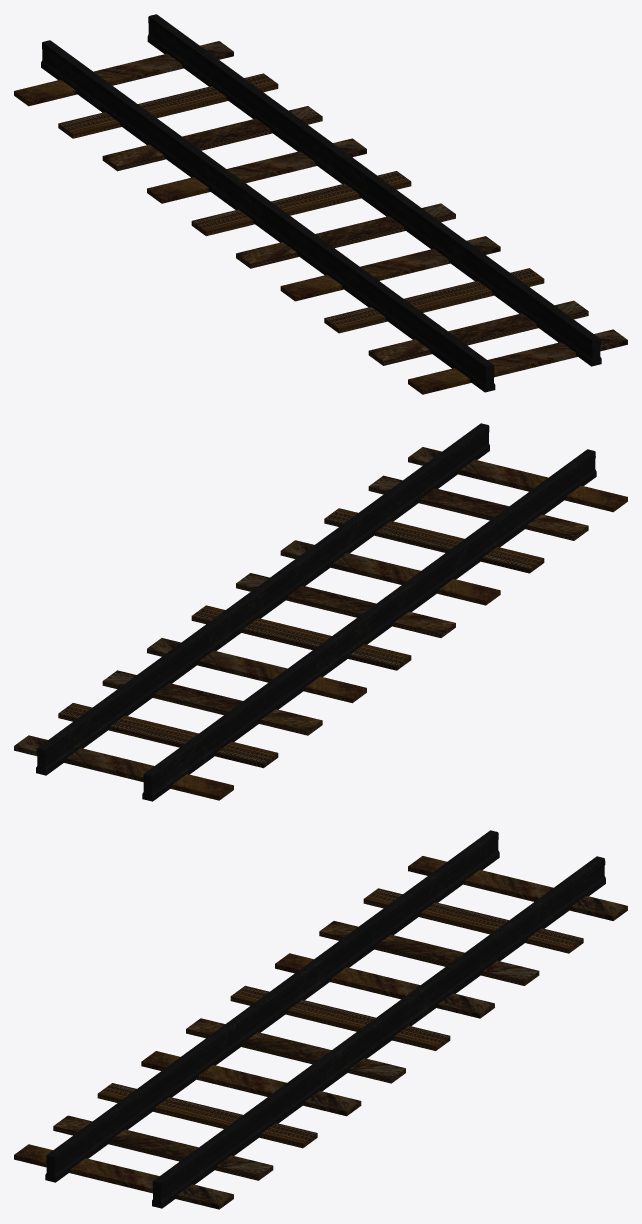
Rendered from track straight.fbx.
The picture shows the model from 3 angles, top to bottom: view 1: azimuth 30°, elevation 25°; view 2: azimuth 150°, elevation 25°; view 3: azimuth 330°, elevation 25°; orthographic projection.
Visible parts, largest first — view 1: polySurface80; view 2: polySurface80; view 3: polySurface80.
Part boxes in pixels (x1,y1,x2,y2): polySurface80: (14, 14, 627, 394); polySurface80: (14, 423, 627, 801); polySurface80: (14, 830, 627, 1209).
Bounding box in the file's own units: 6.93 × 0.8958 × 25.95.
1 material, 1 textured.
